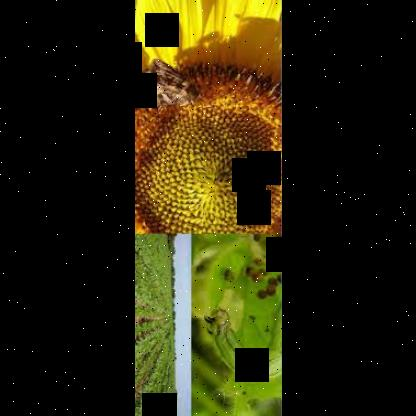oruga: (196, 312, 282, 380)
